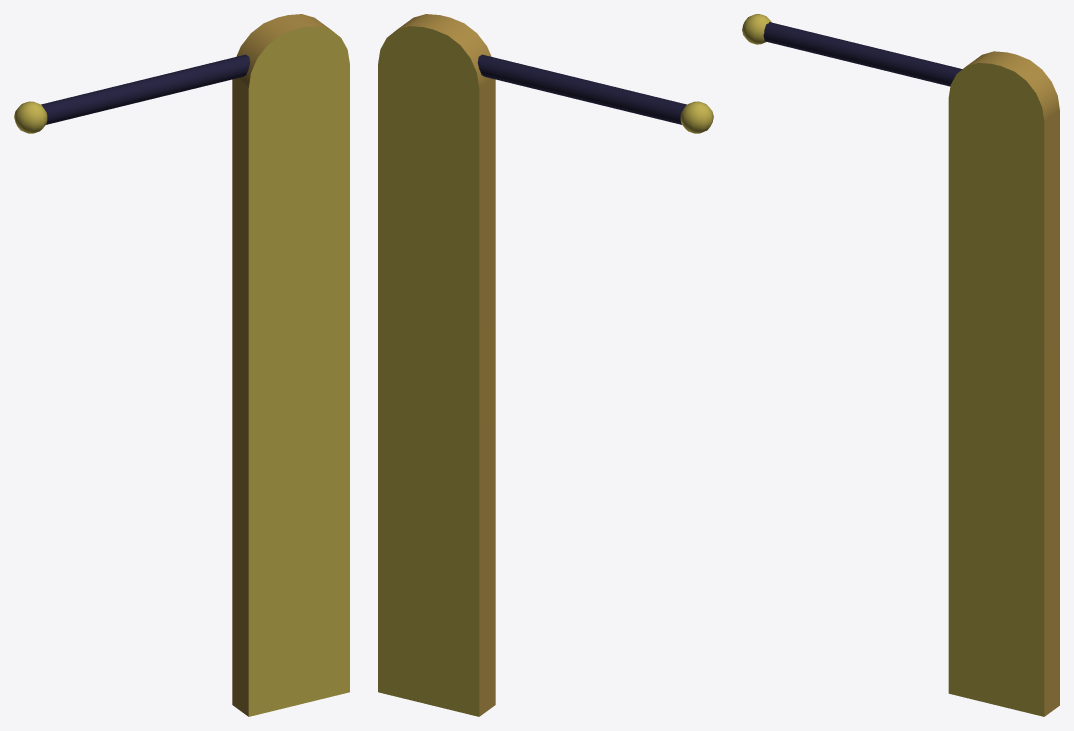
Rendered from Obstacle_01_01.fbx.
3 views of the same model, side by side, from view 1: azimuth 30°, elevation 25°; view 2: azimuth 150°, elevation 25°; view 3: azimuth 330°, elevation 25° (orthographic). The views are drawn at different scales.
Visible parts, largest first — view 1: Obstacle_0101; view 2: Obstacle_0101; view 3: Obstacle_0101.
Boxes of the visible parts, <box> form: Obstacle_0101: <box>14,14,349,716</box>; Obstacle_0101: <box>378,14,713,716</box>; Obstacle_0101: <box>742,14,1059,716</box>.
Bounding box in the file's own units: 317 × 629 × 27.87.
